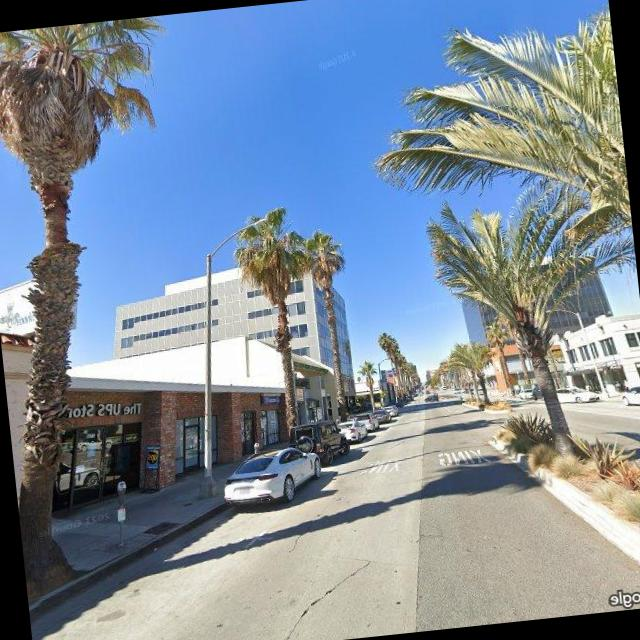pothole: (245, 558, 378, 640), (286, 524, 310, 556)
